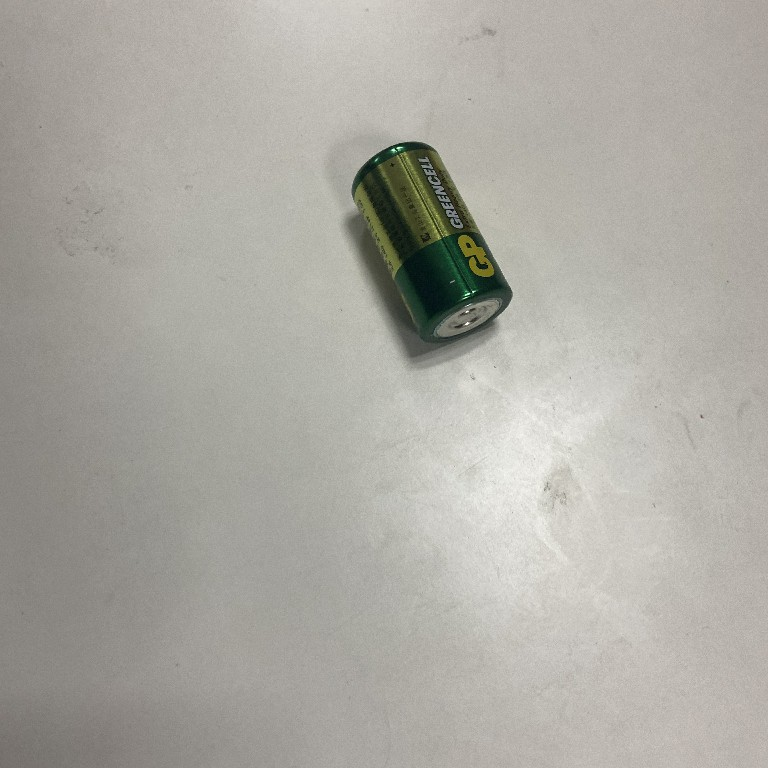charge: (346, 137, 517, 344)
